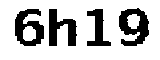1: (83, 7, 113, 50)
6: (11, 4, 44, 51)
9: (116, 5, 151, 53)
h: (45, 2, 82, 50)
